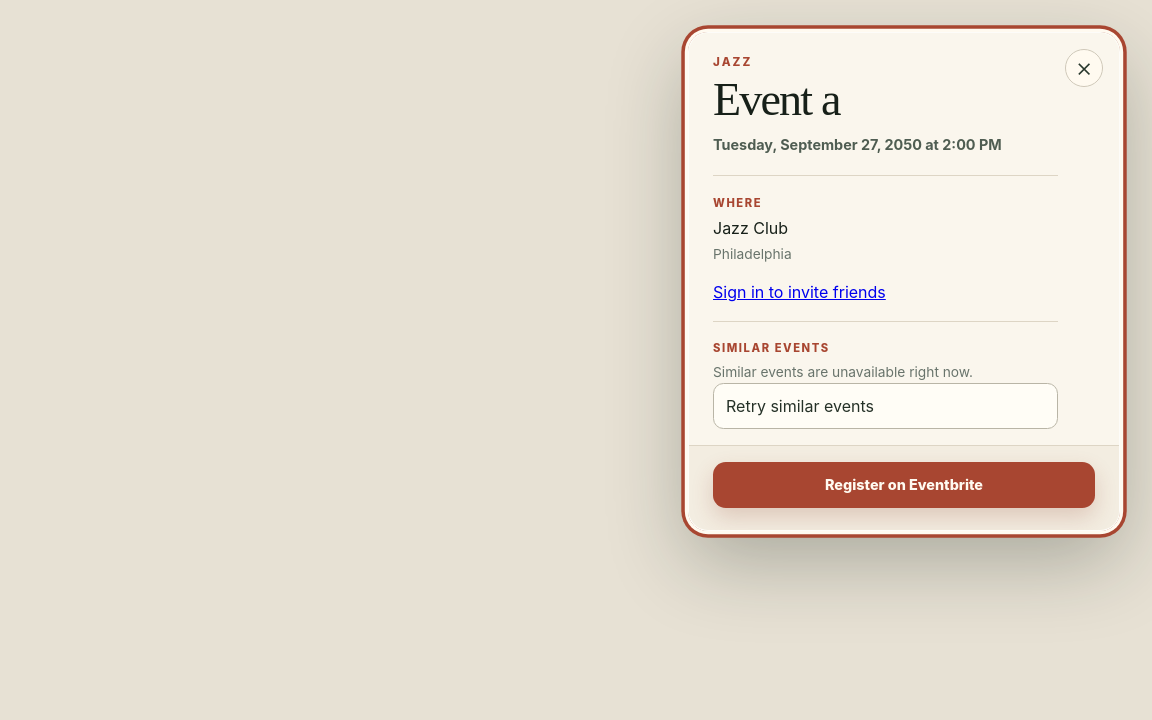
it: similar events in details › keeps event details usable on failure and supports retry
Click the button "Retry similar events" at (800, 406), box [713,383,1058,429]
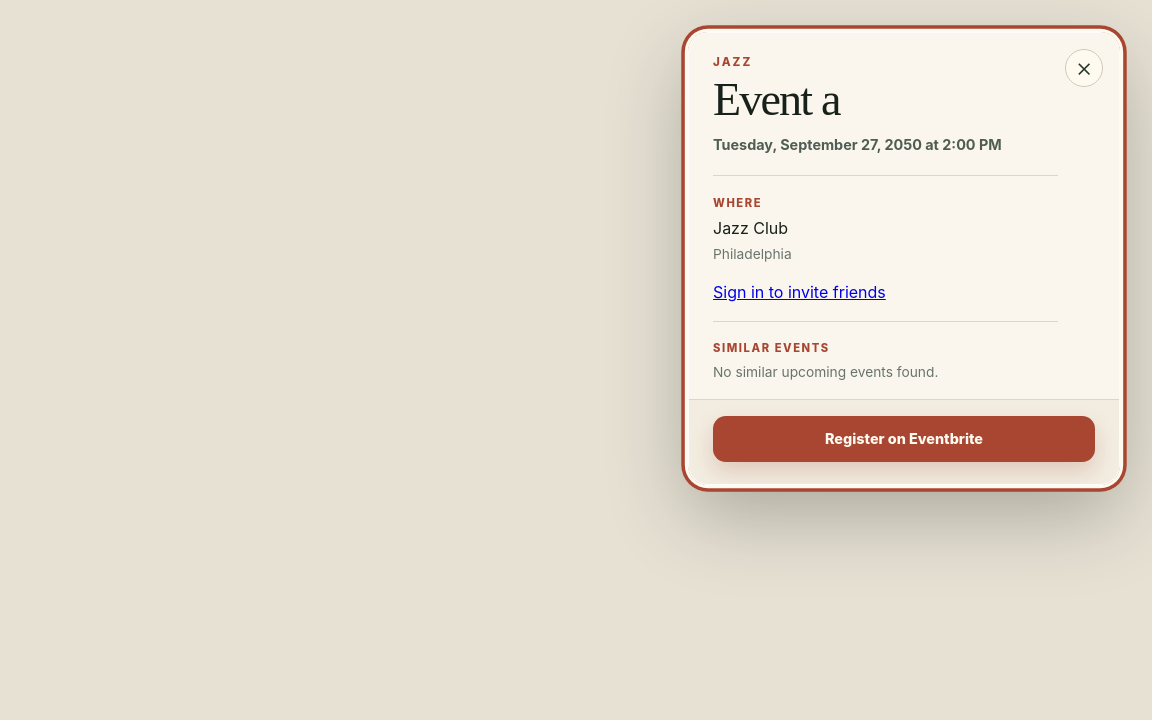
expect the link "Register on Eventbrite" is shown: met, box [713,416,1095,462]
expect the text "No similar upcoming events found." is shown: met, box [713,364,938,380]
